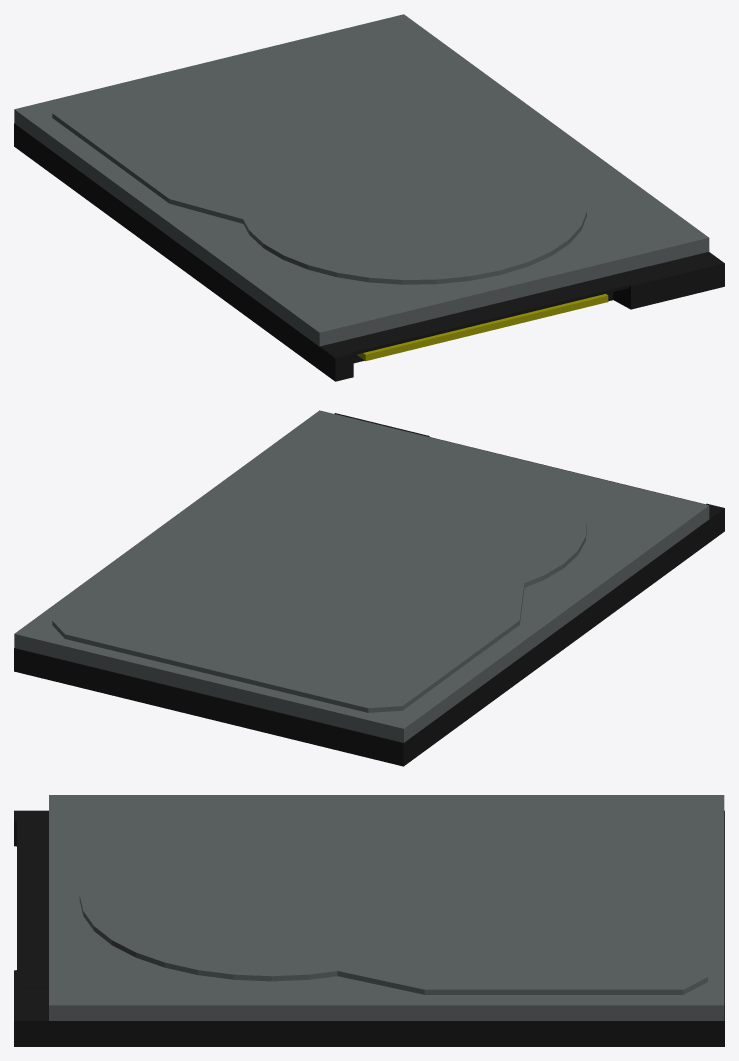
File: Storage.glb
3 renders of one model, top to bottom at view 1: azimuth 30°, elevation 25°; view 2: azimuth 150°, elevation 25°; view 3: azimuth 270°, elevation 25°, orthographic. The views are drawn at different scales.
Parts seen in each view (by area): view 1: HHD; view 2: HHD; view 3: HHD.
Part boxes in pixels (bbox=[...]): HHD: bbox=[14, 14, 724, 381]; HHD: bbox=[14, 410, 724, 766]; HHD: bbox=[14, 795, 724, 1046].
Size of the model in its own units: 0.7 by 0.0739 by 1.
